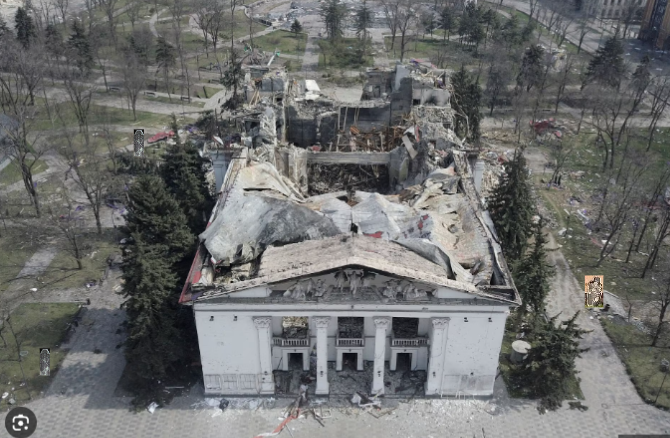HVT1: (589, 276, 603, 307), (40, 348, 50, 375), (134, 129, 143, 154)
